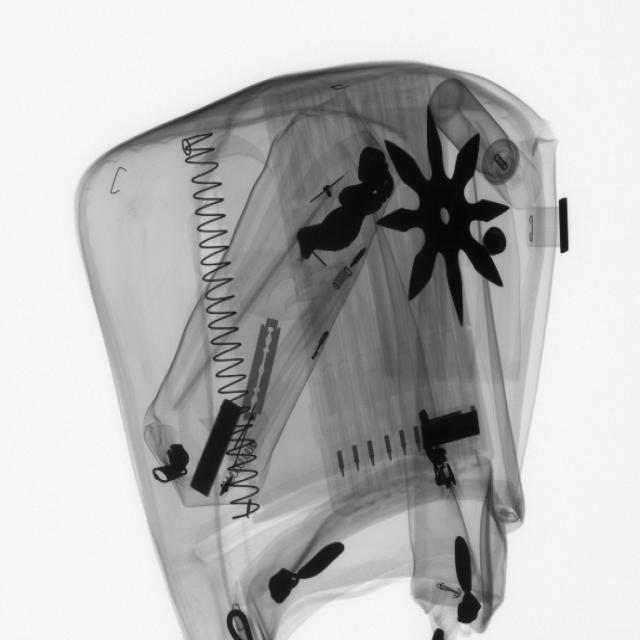BLADE: (240, 314, 285, 432)
SHURIKEN: (381, 107, 511, 330)
